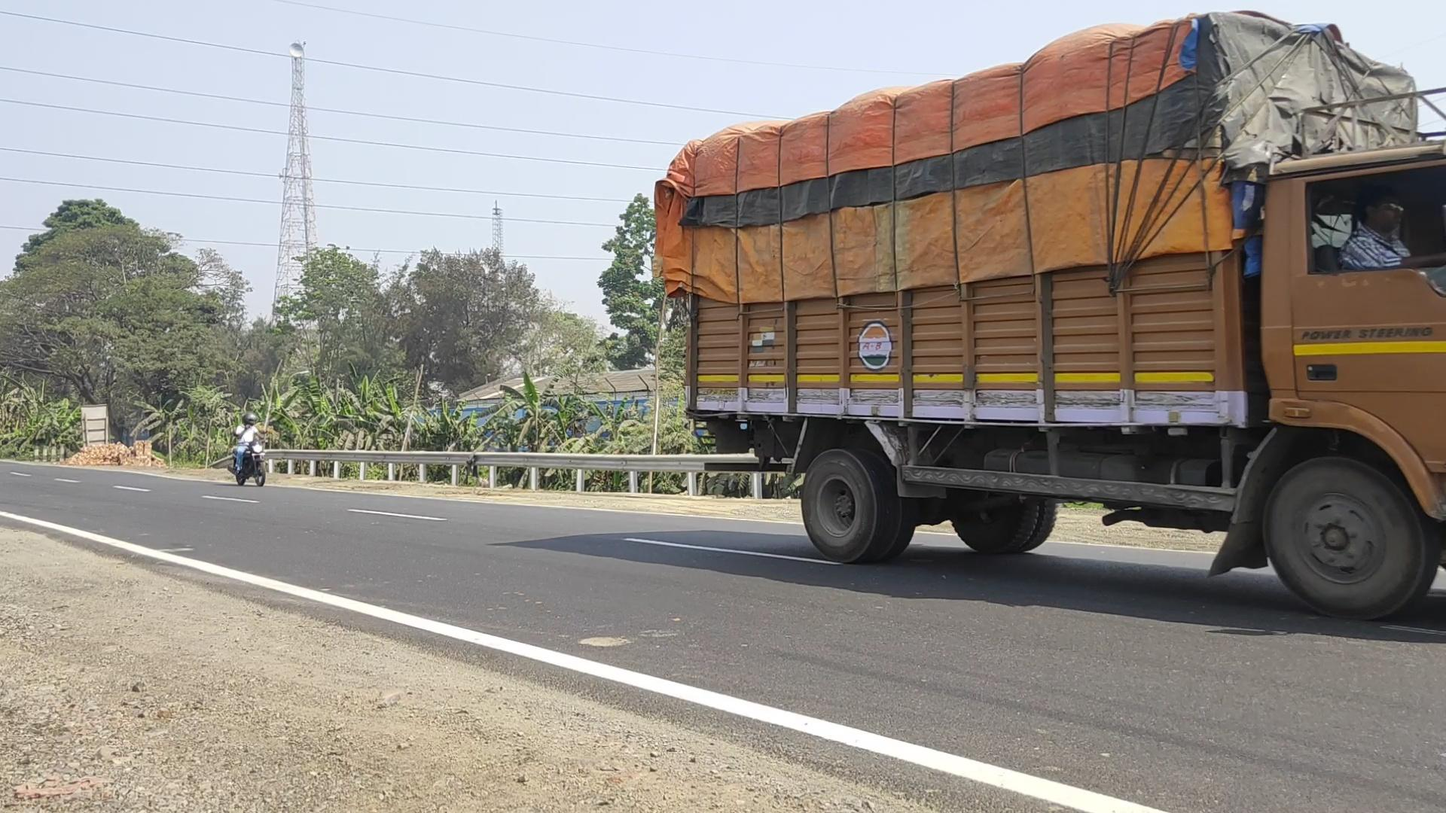bike: (227, 413, 268, 487)
truck: (660, 9, 1446, 620)
